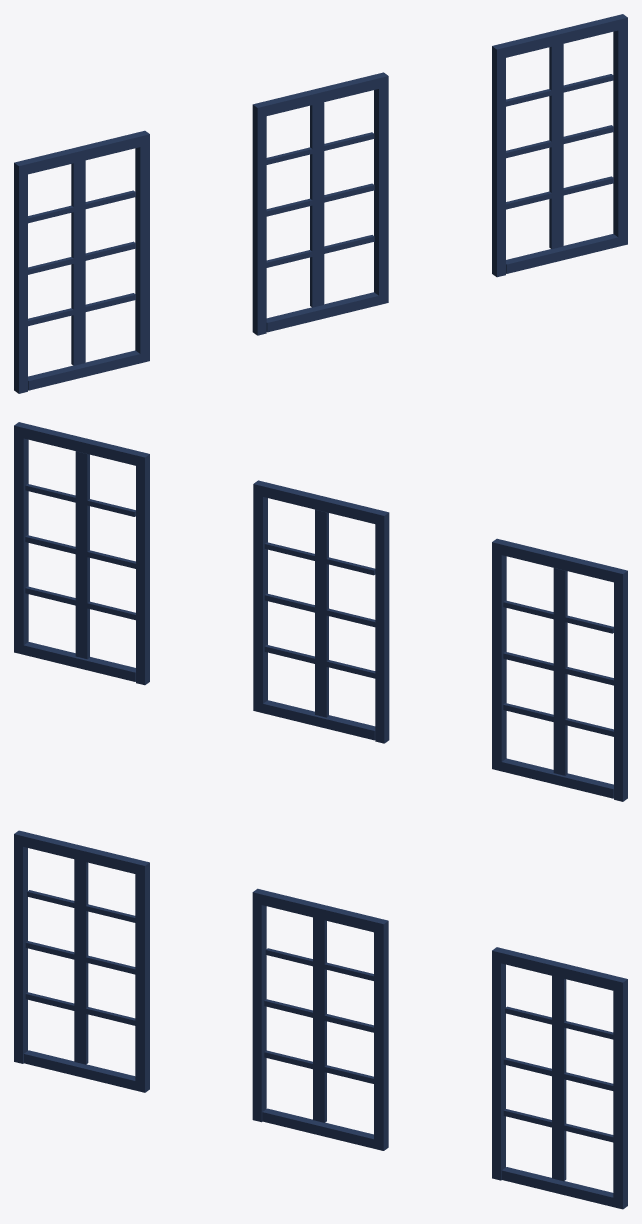
The model's file is window-frames.obj.
The picture shows the model from 3 angles, top to bottom: view 1: azimuth 30°, elevation 25°; view 2: azimuth 150°, elevation 25°; view 3: azimuth 330°, elevation 25°; orthographic projection.
Visible parts, largest first — view 1: window-frames; view 2: window-frames; view 3: window-frames.
Boxes of the visible parts, <box> form: window-frames: <box>14,14,627,393</box>; window-frames: <box>14,422,627,801</box>; window-frames: <box>14,830,627,1209</box>.
Bounding box in the file's own units: 2.85 × 1.02 × 0.0406.
